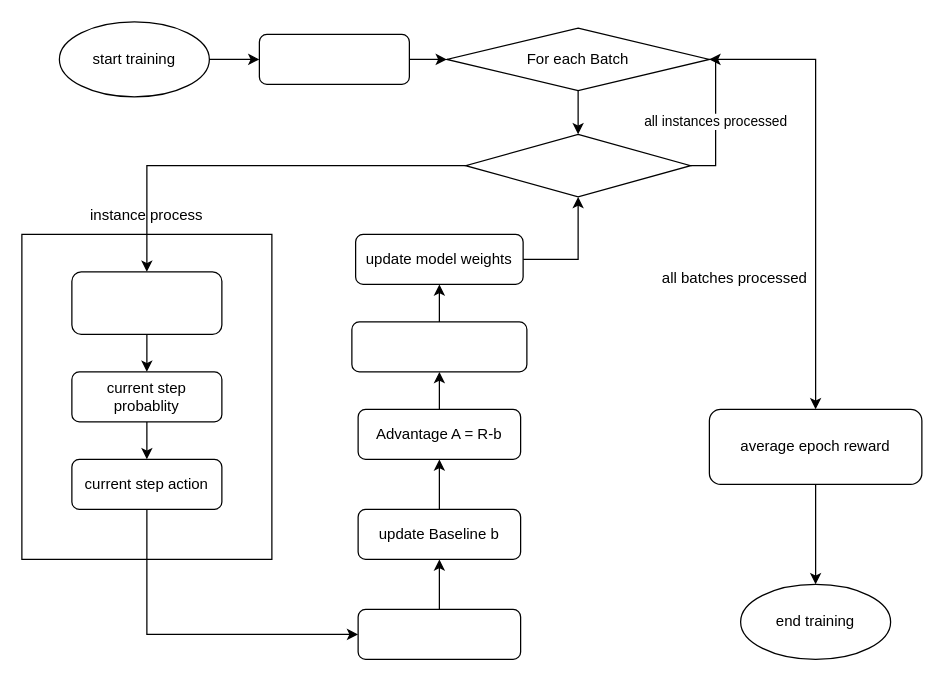
Some shapes in this 944 by 681 pixel diagram are drawn without their labels. Each missing label, with the box of its shape:
calculate return R: (357, 608, 521, 659)
data: weights, values, capacity: (71, 271, 222, 334)
For each epoch: (258, 33, 409, 84)
For each instance: (464, 133, 691, 197)
loss: (351, 321, 527, 372)
